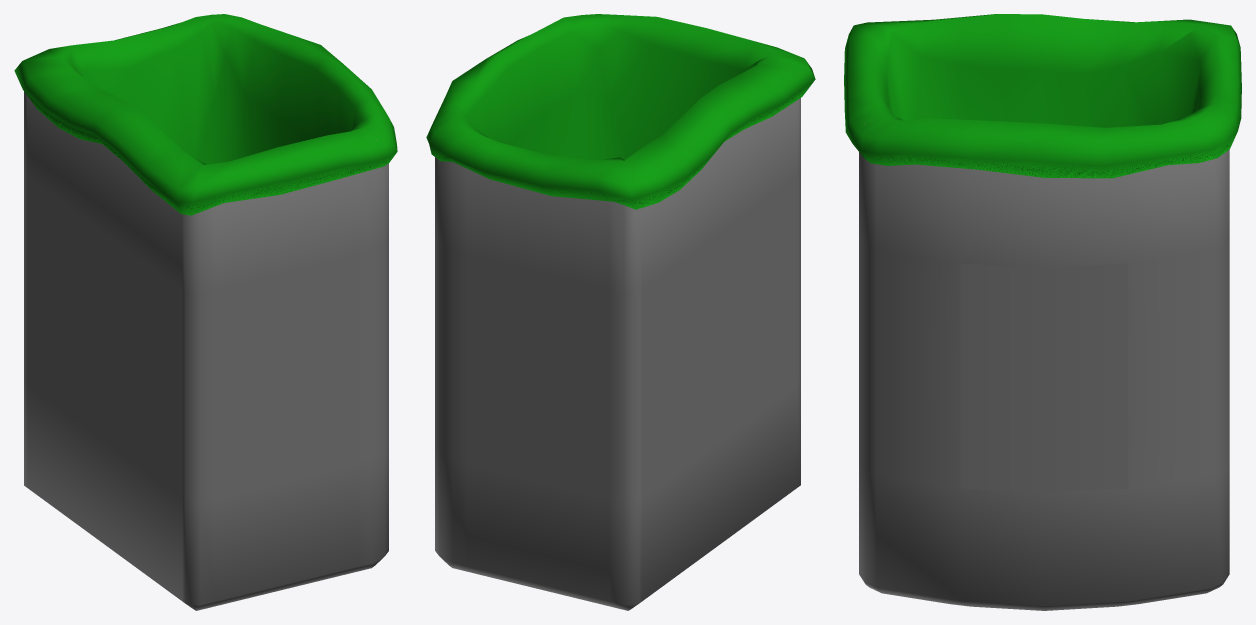
Rendered from poubelle_vert.fbx.
3 views of the same model, side by side, from view 1: azimuth 30°, elevation 25°; view 2: azimuth 150°, elevation 25°; view 3: azimuth 270°, elevation 25° (orthographic). The views are drawn at different scales.
Visible parts, largest first — view 1: poubelle, sac poubelle; view 2: poubelle, sac poubelle; view 3: poubelle, sac poubelle.
Boxes of the visible parts, x1=… form: poubelle: x1=24, y1=91, x2=388, y2=610; sac poubelle: x1=14, y1=14, x2=397, y2=215; poubelle: x1=435, y1=98, x2=800, y2=610; sac poubelle: x1=426, y1=14, x2=815, y2=209; poubelle: x1=859, y1=123, x2=1229, y2=610; sac poubelle: x1=844, y1=14, x2=1241, y2=178.
Size of the model in its own units: 63.45 by 105 by 77.58.
